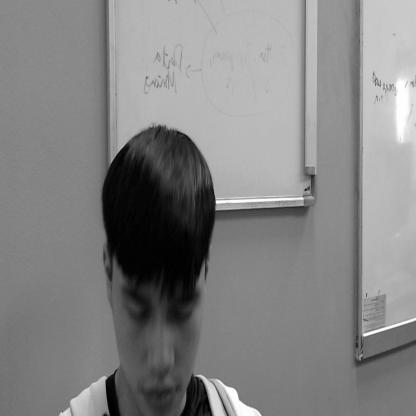Closed-Eyes: (122, 274, 206, 334)
